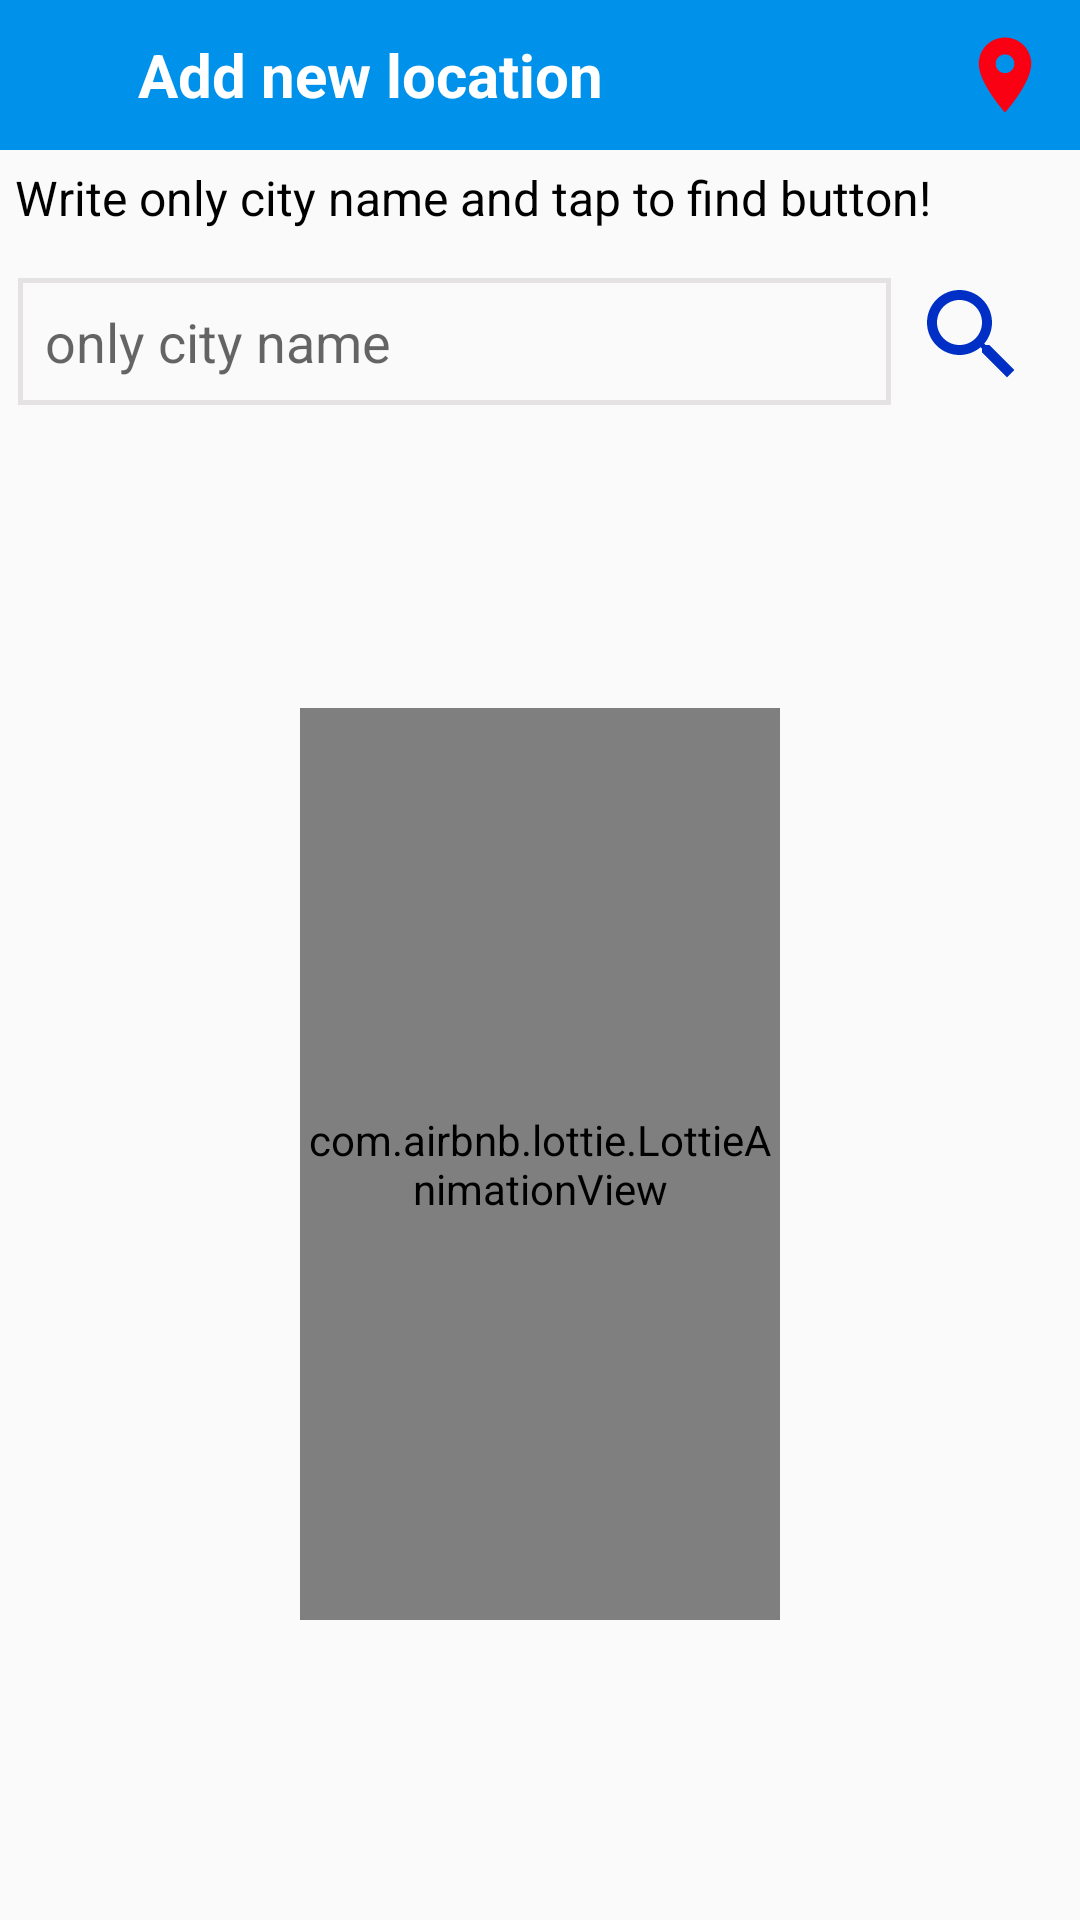

Point at icon controls on the screen. Image size 1080*1920, points as (x,y).
location: (1005,74)
search: (970,333)
